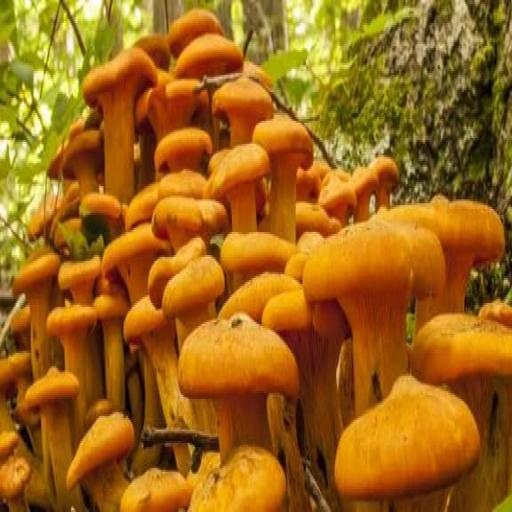Jack O Lantern Mushroom: (300, 206, 447, 423), (410, 303, 512, 505), (335, 368, 473, 512), (180, 307, 301, 459), (395, 188, 500, 337), (120, 282, 203, 451), (81, 45, 153, 215), (19, 359, 86, 511), (181, 438, 296, 512), (252, 116, 316, 243), (64, 406, 139, 512), (129, 64, 208, 156), (44, 296, 105, 412), (101, 211, 170, 312), (161, 255, 232, 351), (13, 248, 60, 377), (213, 67, 273, 158), (209, 141, 267, 235), (90, 291, 134, 412), (171, 20, 246, 87), (152, 124, 210, 195), (158, 4, 225, 59), (50, 254, 104, 322), (363, 150, 400, 213), (344, 163, 376, 228), (325, 176, 352, 230)
